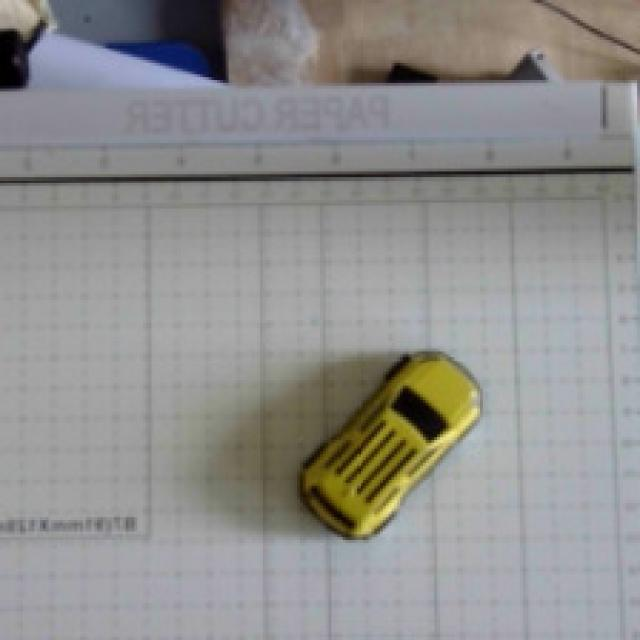Yellow Car: (182, 249, 548, 571)
